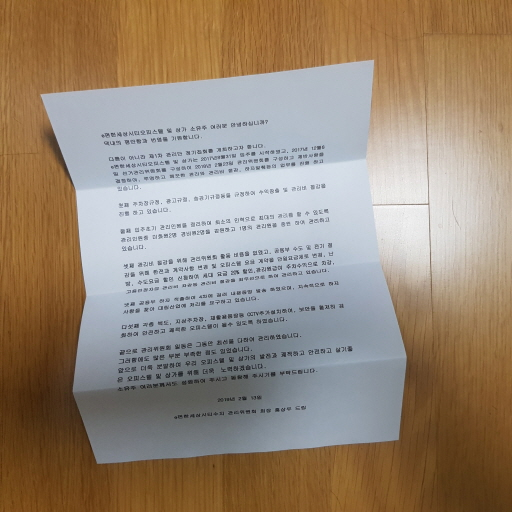Paper_3: (25, 57, 414, 477)
